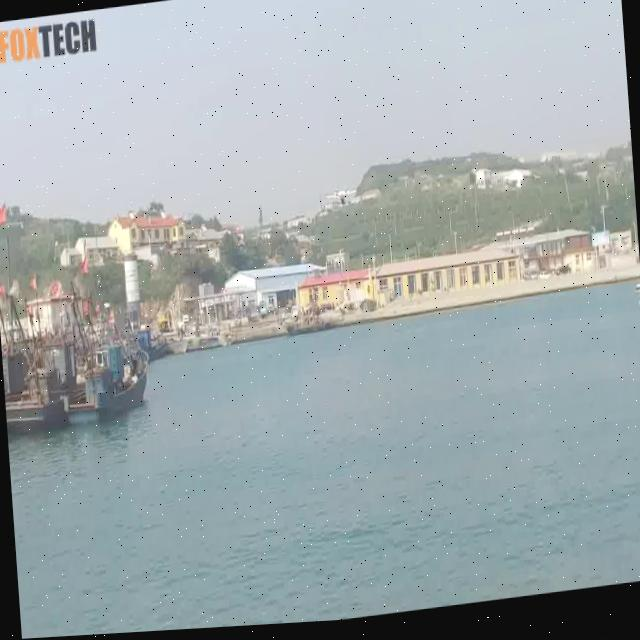drone: (324, 186, 356, 211)
